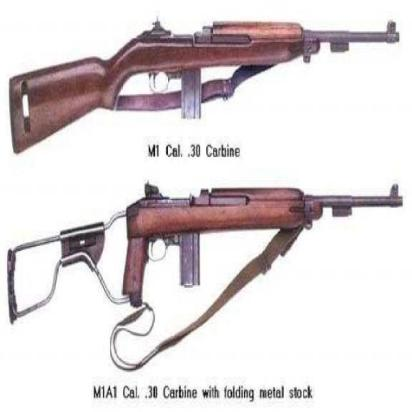Gun: (8, 11, 402, 160)
